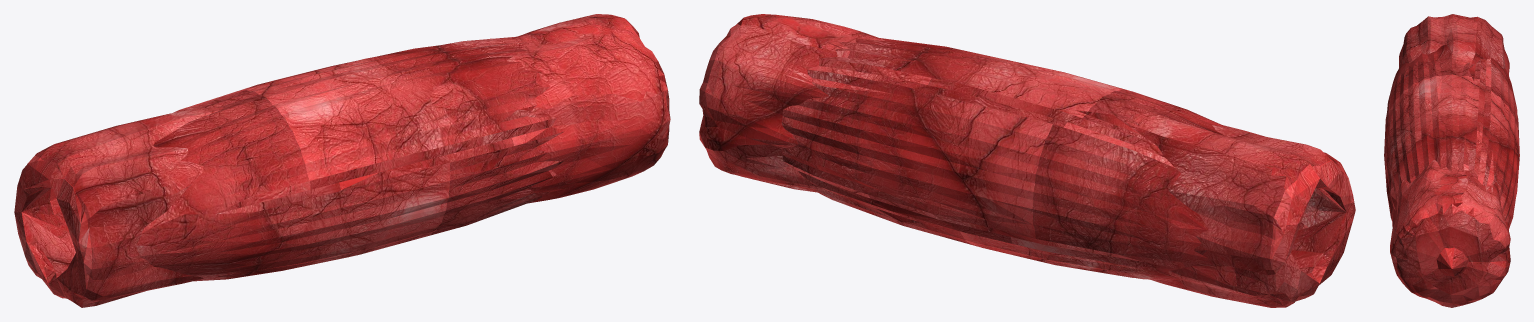
The model's file is vena.obj.
The picture shows the model from 3 angles, left to right: view 1: azimuth 30°, elevation 25°; view 2: azimuth 150°, elevation 25°; view 3: azimuth 270°, elevation 25°; orthographic projection. The views are drawn at different scales.
Visible parts, largest first — view 1: cuerpo_Cilindro; view 2: cuerpo_Cilindro; view 3: cuerpo_Cilindro.
Part boxes in pixels (x1,y1,x2,y2): cuerpo_Cilindro: (14,14,670,307); cuerpo_Cilindro: (699,14,1355,307); cuerpo_Cilindro: (1384,14,1519,307).
Size of the model in its own units: 53.18 by 14.06 by 14.38.
1 material, 1 textured.
